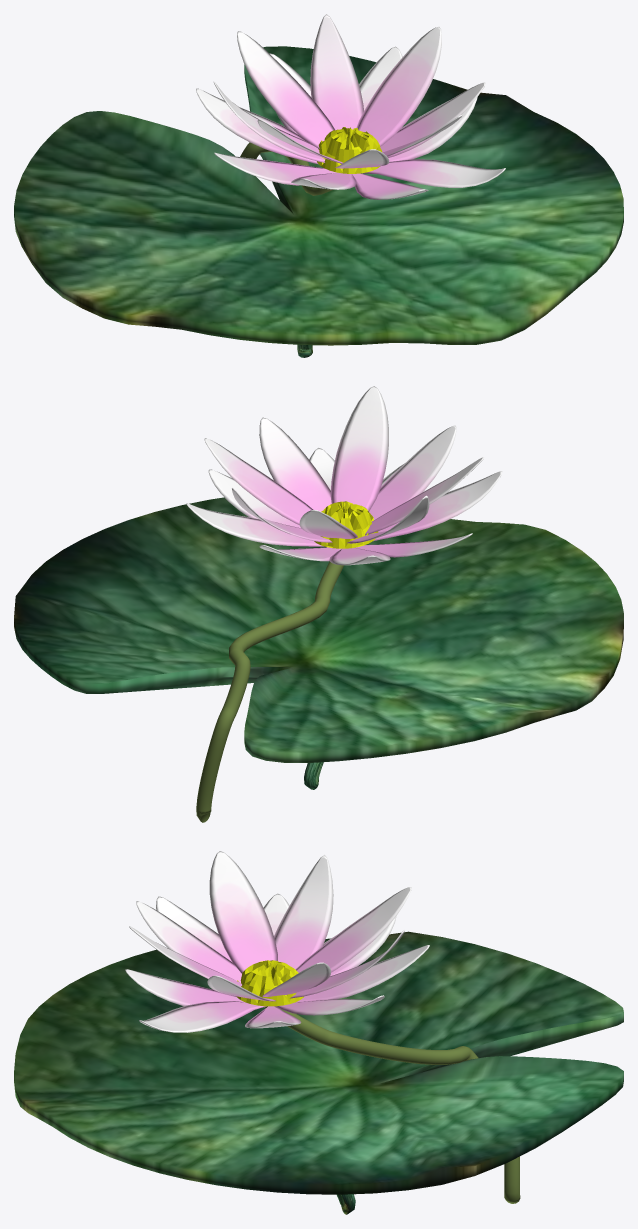
3 views of the same model, one above another, from view 1: azimuth 30°, elevation 25°; view 2: azimuth 150°, elevation 25°; view 3: azimuth 270°, elevation 25° (orthographic).
Visible parts, largest first — view 1: Water_Lilly.002; view 2: Water_Lilly.002; view 3: Water_Lilly.002.
Boxes of the visible parts, x1,y1,x2,y2 form: Water_Lilly.002: (14,14,623,357); Water_Lilly.002: (14,386,623,822); Water_Lilly.002: (14,851,623,1214).
Bounding box in the file's own units: 0.321 × 0.1802 × 0.321.
Materials: 4 (2 with a texture image).
